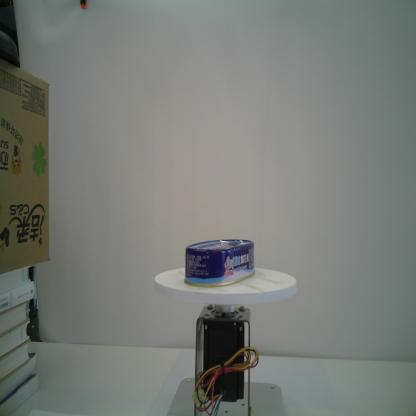Canned Food: (184, 239, 256, 288)
